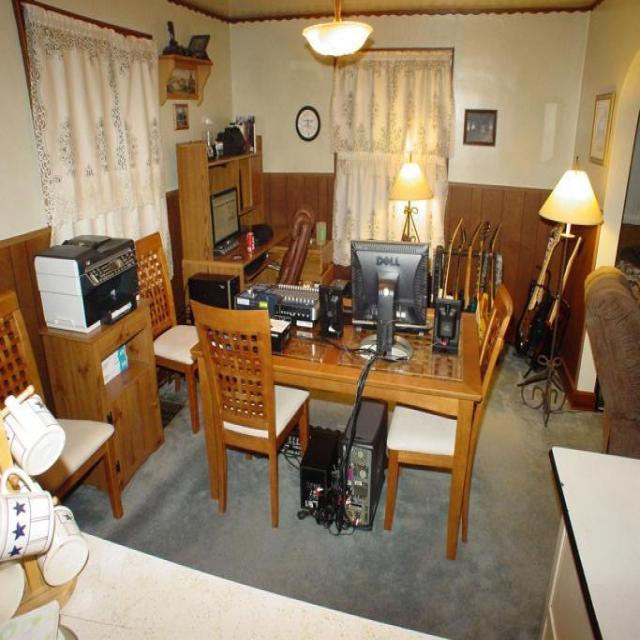chair: (188, 296, 310, 528), (0, 289, 123, 519), (133, 230, 201, 432)
clock: (295, 105, 320, 141)
cupboard: (37, 298, 165, 508)
curtains: (13, 0, 174, 282), (329, 46, 454, 270)
lamps: (301, 0, 374, 58), (387, 152, 434, 242)
pots: (0, 384, 66, 476)
rugs: (56, 341, 603, 639)
shelves: (157, 52, 213, 106)
sofa: (583, 242, 639, 458)
table-lamp: (516, 160, 604, 425)
television: (350, 239, 430, 361)
